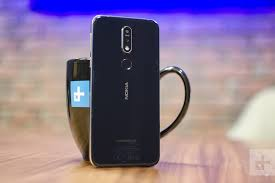nokia: (87, 12, 163, 170)
